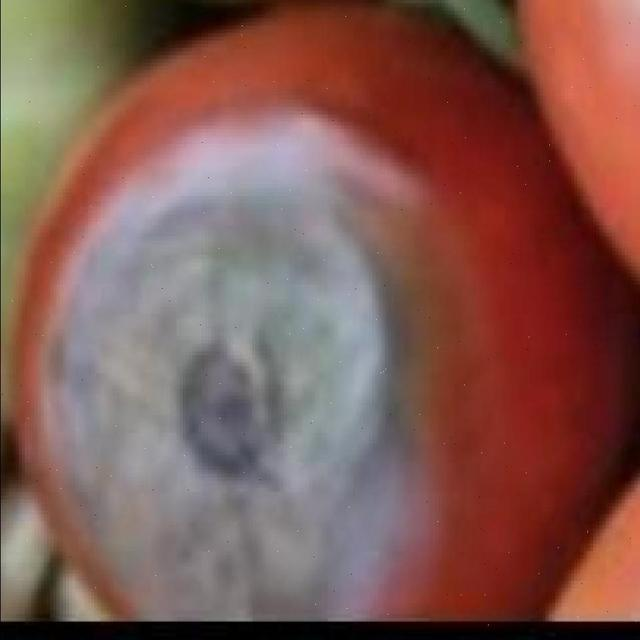Blossom End Rot Fruit: (14, 64, 305, 419)
